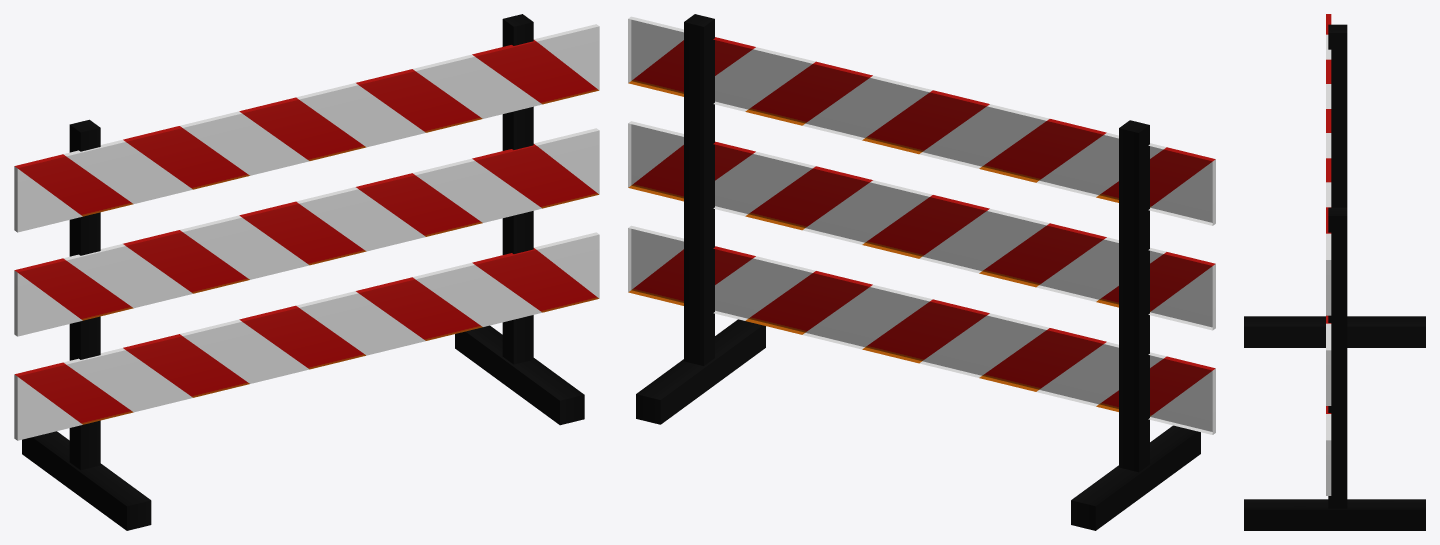
The model's file is block 1.fbx.
3 renders of one model, left to right at view 1: azimuth 30°, elevation 25°; view 2: azimuth 150°, elevation 25°; view 3: azimuth 270°, elevation 25°, orthographic. The views are drawn at different scales.
Visible parts, largest first — view 1: Road Block 1; view 2: Road Block 1; view 3: Road Block 1.
Part boxes in pixels (x1=…): Road Block 1: x1=14, y1=14, x2=599, y2=530; Road Block 1: x1=628, y1=14, x2=1215, y2=530; Road Block 1: x1=1244, y1=14, x2=1425, y2=530.
Size of the model in its own units: 162 by 96.56 by 50.7.
